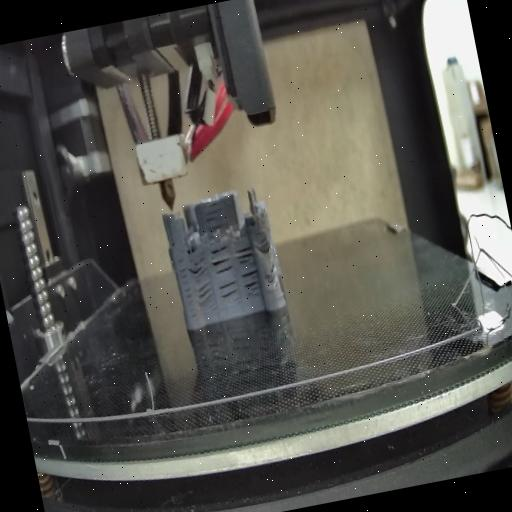cracks: (178, 260, 197, 320), (210, 244, 236, 275), (240, 266, 264, 299), (204, 204, 228, 234), (218, 278, 242, 306), (186, 254, 209, 280), (194, 282, 216, 308), (234, 244, 256, 264), (258, 234, 271, 252), (269, 258, 278, 274), (169, 235, 177, 249)
